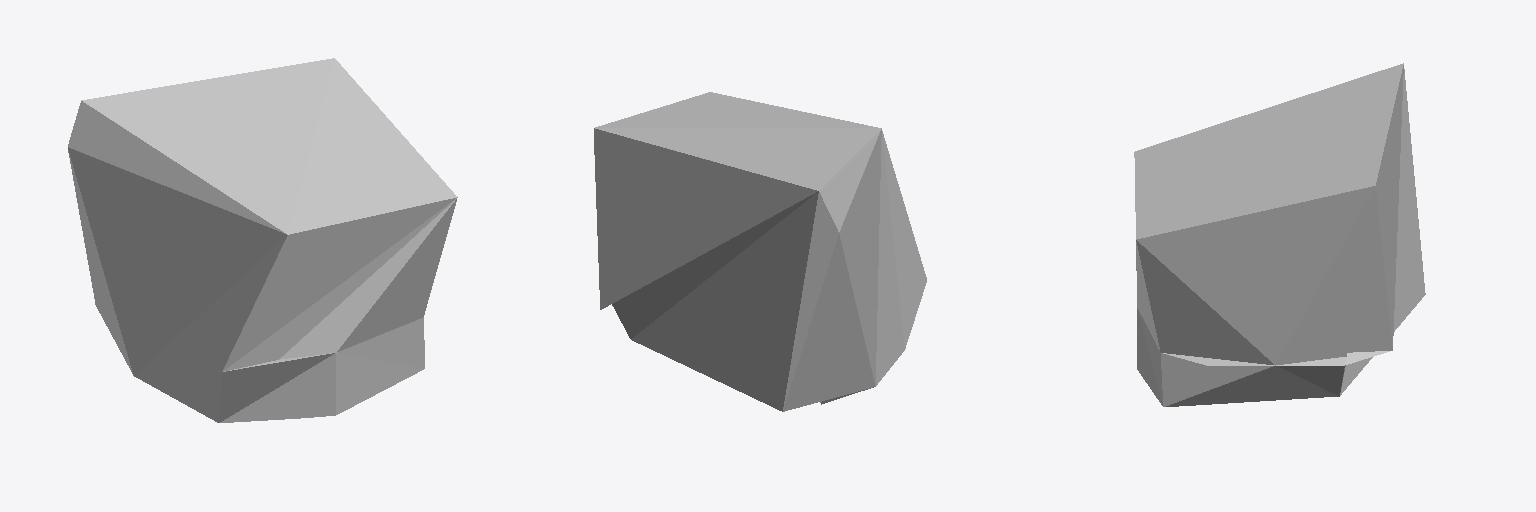
File: smokedecimated.obj
The picture shows the model from 3 angles: view 1: azimuth 30°, elevation 25°; view 2: azimuth 150°, elevation 25°; view 3: azimuth 270°, elevation 25°; orthographic projection.
Visible parts, largest first — view 1: Cube; view 2: Cube; view 3: Cube.
Part boxes in pixels (left/top/right/bottom): Cube: left=68, top=58, right=457, bottom=422; Cube: left=594, top=92, right=926, bottom=411; Cube: left=1134, top=63, right=1425, bottom=406.
Bounding box in the file's own units: 5.58 × 5.66 × 5.42.